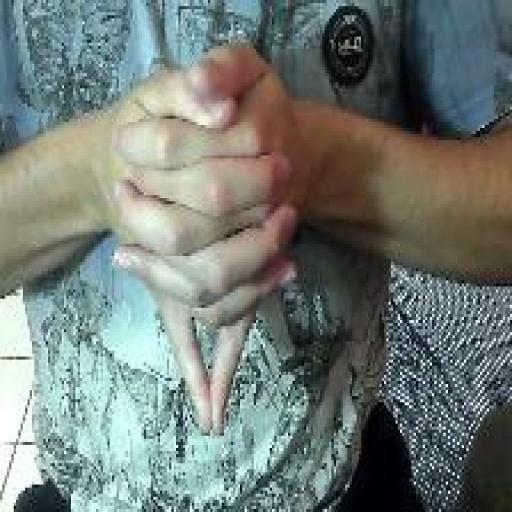Tatsu -dragon-: (108, 37, 308, 448)
